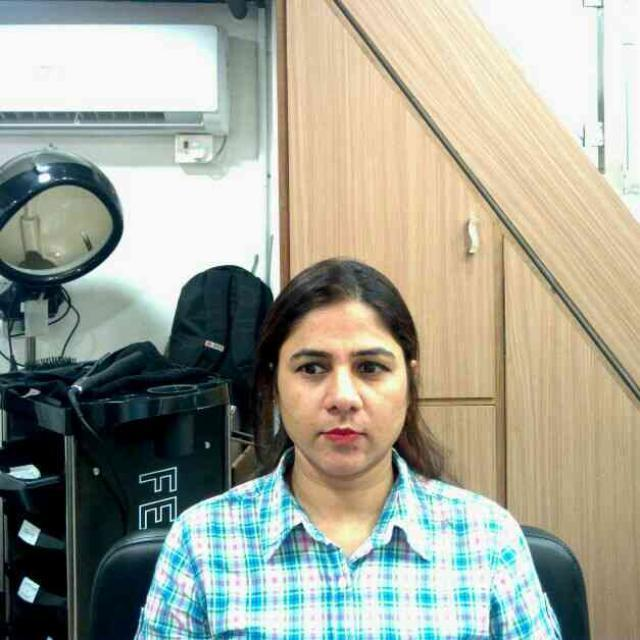puffy_eyes: (357, 371, 389, 382)
